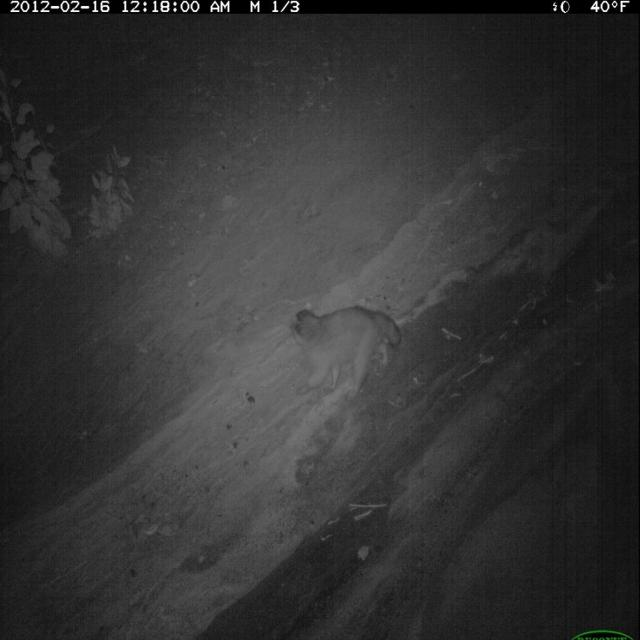raccoon: (287, 300, 407, 403)
